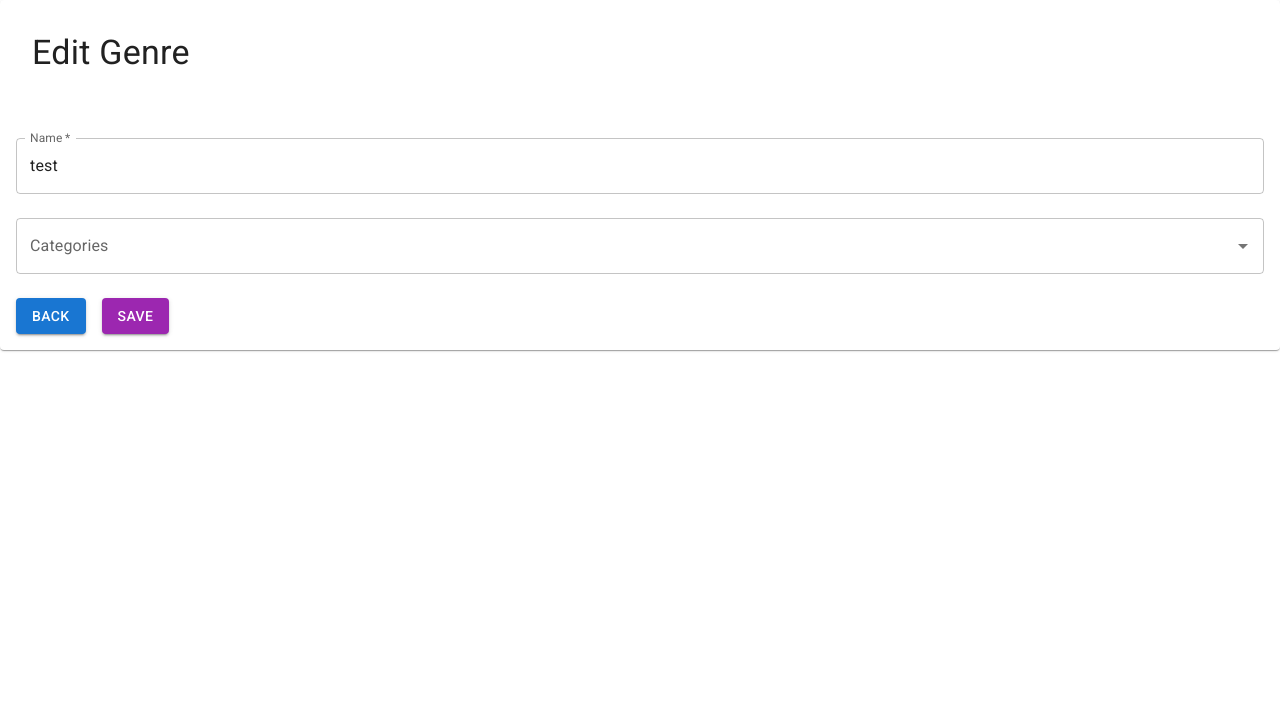
it: EditGenre › should handle submit error
The width and height of the screenshot is (1280, 720).
expect the button "Save" is shown: met, box [102, 298, 169, 334]
Step 1. Replace the text in the field with test id "name" with "test2" → (640, 166), box [16, 138, 1264, 194]
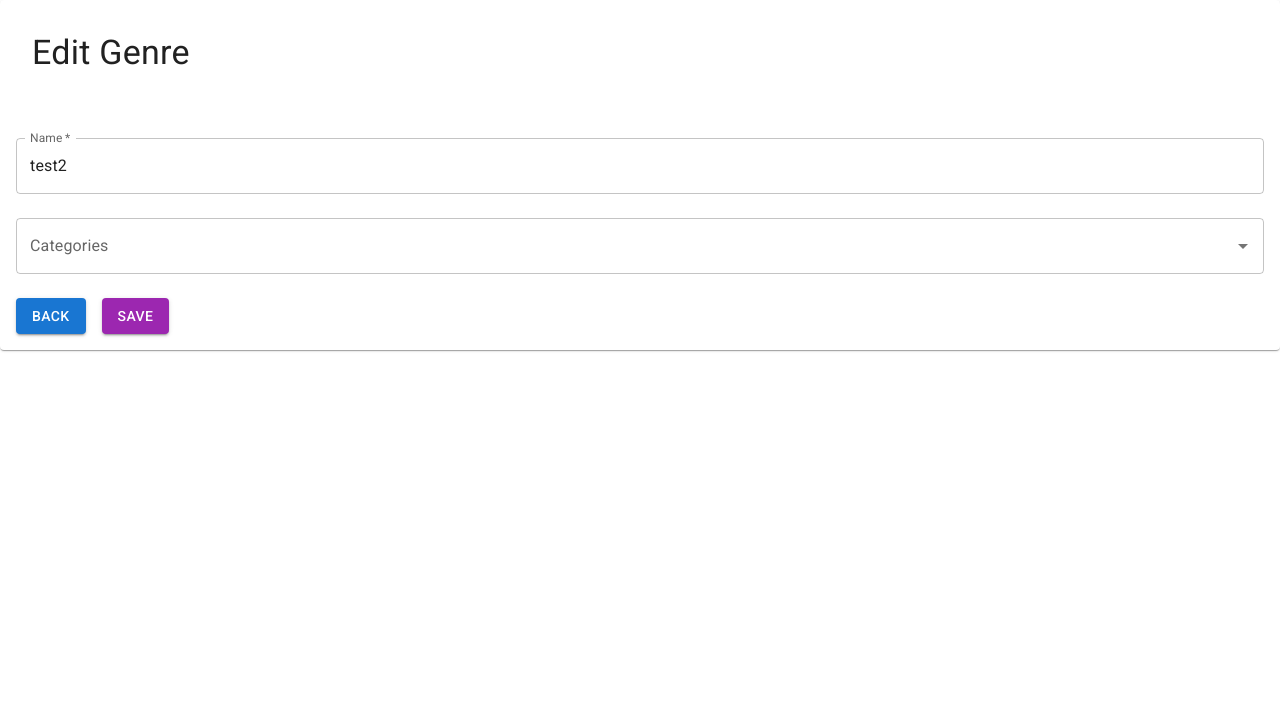
Step 2. Click the button "Save" → (136, 316), box [102, 298, 169, 334]
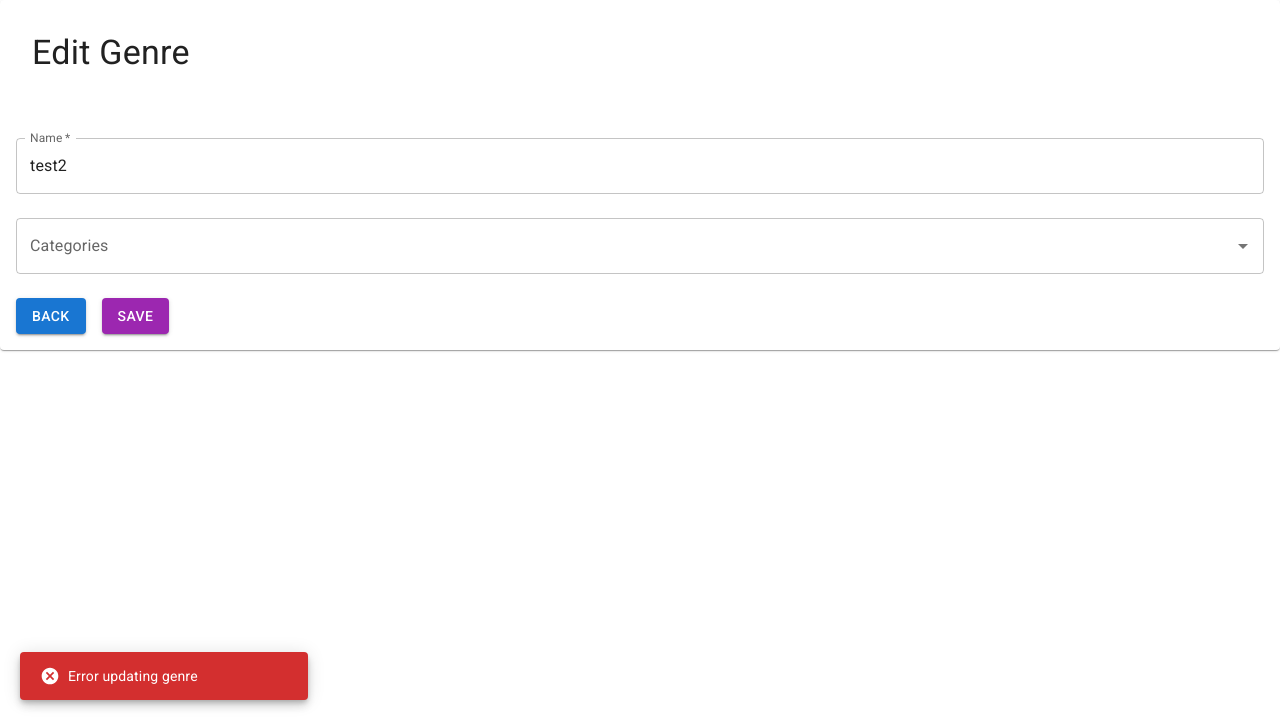
expect the text "Error updating genre" is shown: met, box [40, 666, 198, 686]
